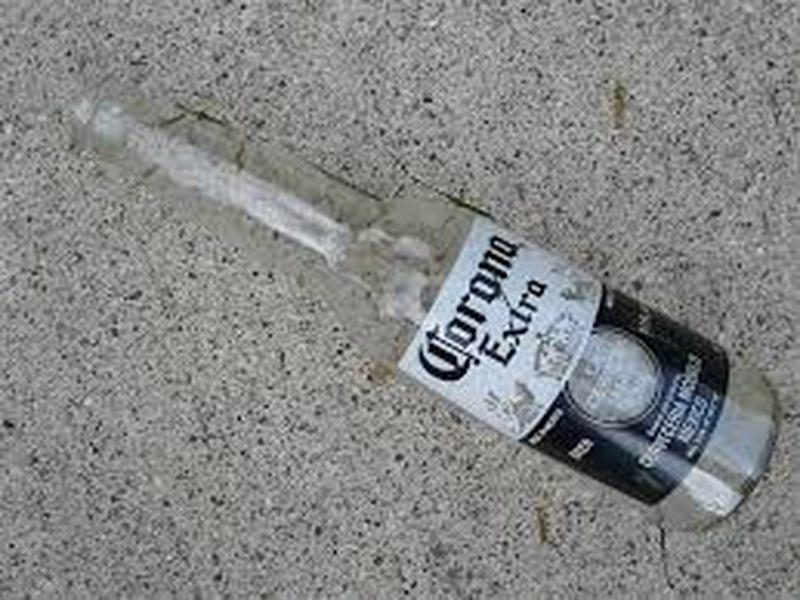bottle: (61, 65, 789, 554)
